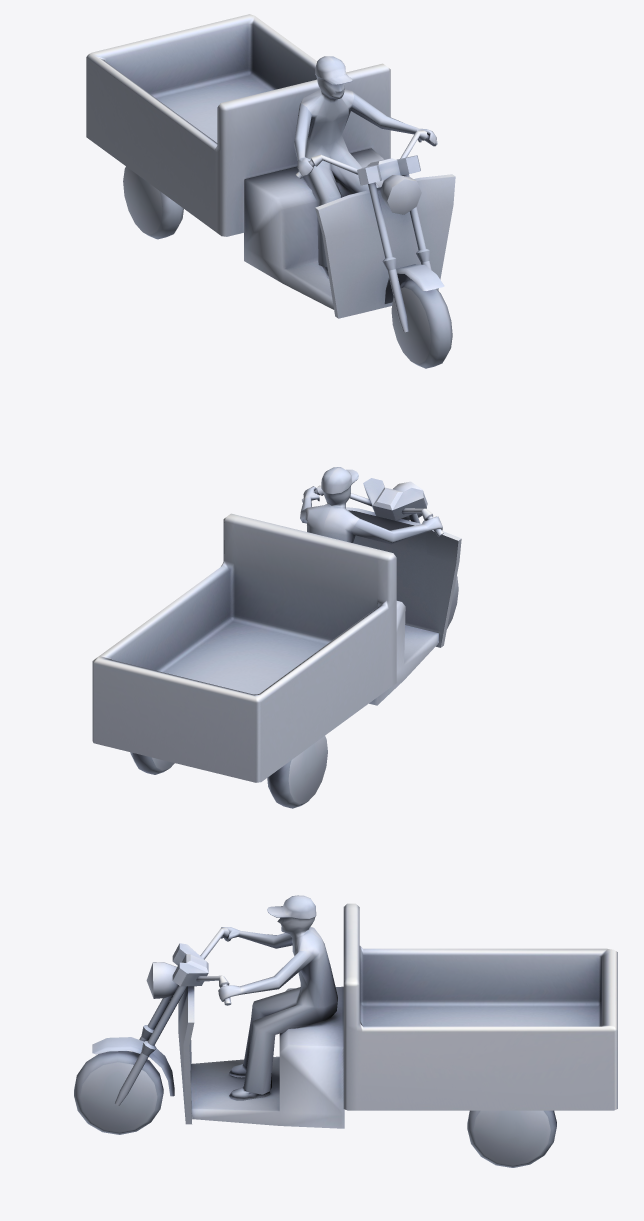
File: tricycle.fbx
The picture shows the model from 3 angles, top to bottom: view 1: azimuth 30°, elevation 25°; view 2: azimuth 150°, elevation 25°; view 3: azimuth 270°, elevation 25°; orthographic projection.
Parts seen in each view (by area): view 1: A1:A1:pCube4, moto:moto_A, A1:moto_E, man1:man, moto:wheel_A, wheel_A1, moto_D, moto:light, moto:moto_G, moto:moto_C; view 2: A1:A1:pCube4, moto:moto_A, man1:man, wheel_A1, A1:moto_E, moto:moto_G, wheel_A; view 3: A1:A1:pCube4, A1:moto_E, man1:man, moto:wheel_A, wheel_A, moto:moto_A, moto:moto_D, moto:moto_G, moto:moto_C, moto:light, moto_D.
Boxes of the visible parts, x1=… form: A1:A1:pCube4: x1=86, y1=14, x2=390, y2=236; moto:moto_A: x1=315, y1=174, x2=455, y2=318; A1:moto_E: x1=244, y1=148, x2=384, y2=309; man1:man: x1=294, y1=56, x2=436, y2=278; moto:wheel_A: x1=391, y1=279, x2=452, y2=368; wheel_A1: x1=123, y1=166, x2=183, y2=239; moto_D: x1=368, y1=182, x2=408, y2=332; moto:light: x1=380, y1=175, x2=421, y2=214; moto:moto_G: x1=357, y1=155, x2=420, y2=185; moto:moto_C: x1=384, y1=264, x2=444, y2=303; A1:A1:pCube4: x1=92, y1=513, x2=396, y2=782; moto:moto_A: x1=346, y1=507, x2=461, y2=647; man1:man: x1=300, y1=467, x2=442, y2=544; wheel_A1: x1=267, y1=736, x2=327, y2=808; A1:moto_E: x1=369, y1=601, x2=438, y2=705; moto:moto_G: x1=363, y1=478, x2=426, y2=520; wheel_A: x1=130, y1=752, x2=174, y2=774; A1:A1:pCube4: x1=343, y1=903, x2=617, y2=1110; A1:moto_E: x1=190, y1=986, x2=344, y2=1128; man1:man: x1=218, y1=895, x2=337, y2=1100; moto:wheel_A: x1=74, y1=1051, x2=163, y2=1134; wheel_A: x1=467, y1=1110, x2=556, y2=1167; moto:moto_A: x1=178, y1=986, x2=194, y2=1124; moto:moto_D: x1=115, y1=986, x2=186, y2=1105; moto:moto_G: x1=172, y1=943, x2=208, y2=986; moto:moto_C: x1=92, y1=1037, x2=174, y2=1096; moto:light: x1=146, y1=962, x2=178, y2=998; moto_D: x1=137, y1=995, x2=173, y2=1054.
Bounding box in the file's own units: 2.44 × 1.84 × 4.35.
